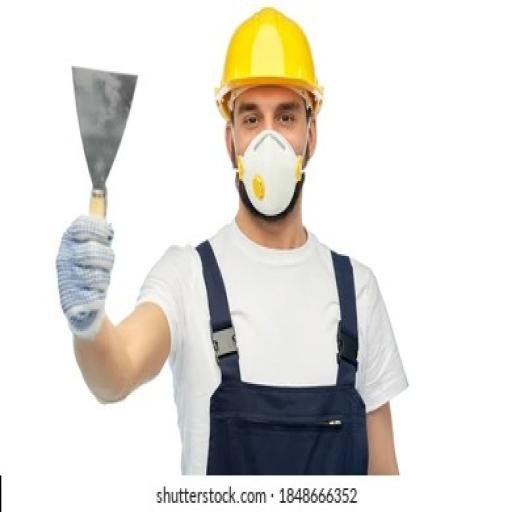mask: (227, 132, 313, 222)
